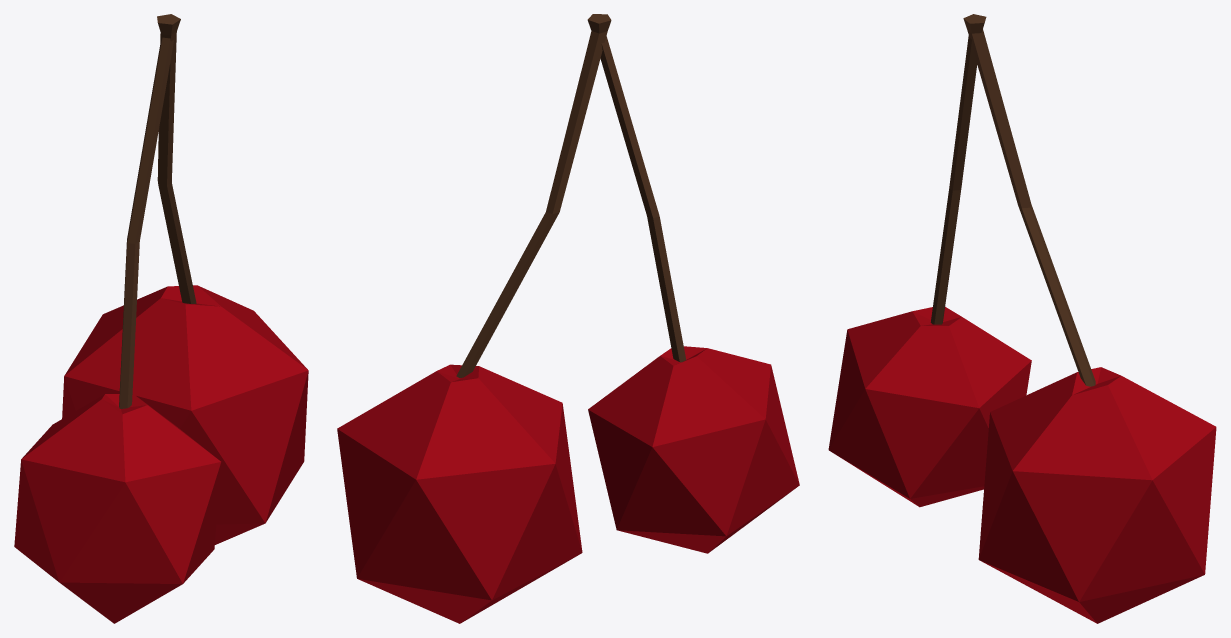
Rendered from cherries.fbx.
The picture shows the model from 3 angles, left to right: view 1: azimuth 30°, elevation 25°; view 2: azimuth 150°, elevation 25°; view 3: azimuth 270°, elevation 25°; orthographic projection. The views are drawn at different scales.
Visible parts, largest first — view 1: Cube; view 2: Cube; view 3: Cube.
Boxes of the visible parts, left/top/right/bottom form: Cube: left=14, top=14, right=308, bottom=623; Cube: left=337, top=14, right=799, bottom=623; Cube: left=828, top=14, right=1216, bottom=623.
Size of the model in its own units: 86.37 by 142 by 88.12.
